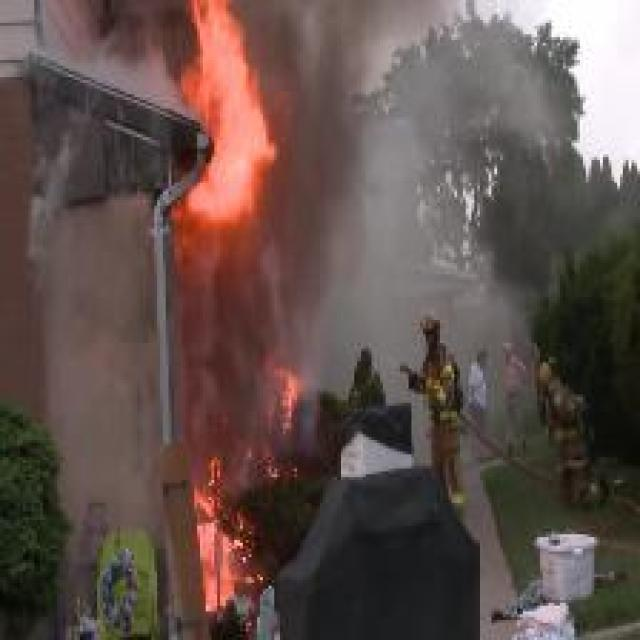Fire: (183, 0, 272, 223)
Smoke: (308, 0, 460, 315)
